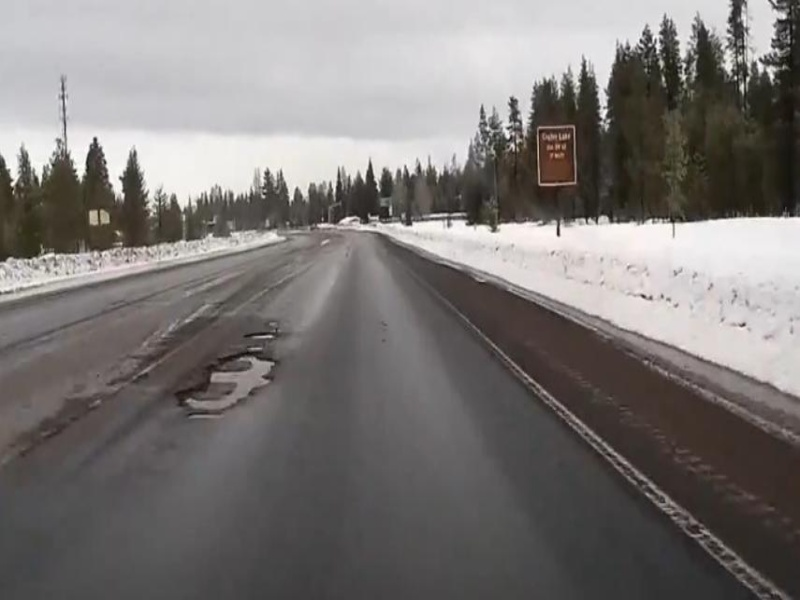pothole: (171, 343, 277, 423)
